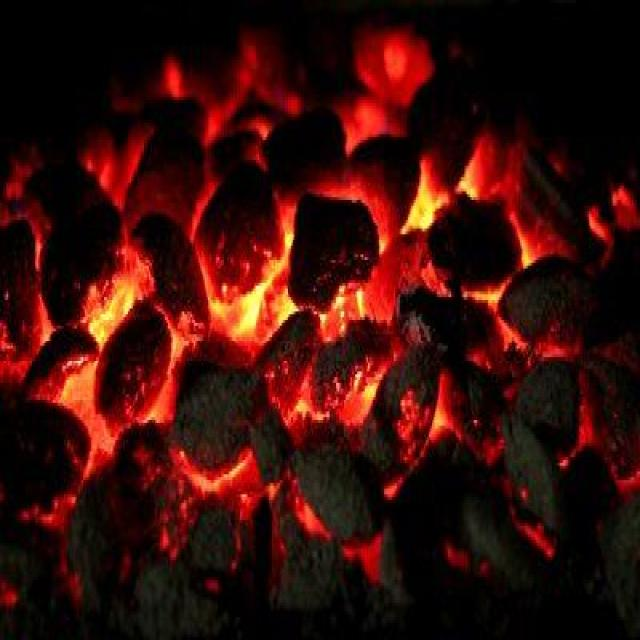Fire: (1, 0, 640, 637)
